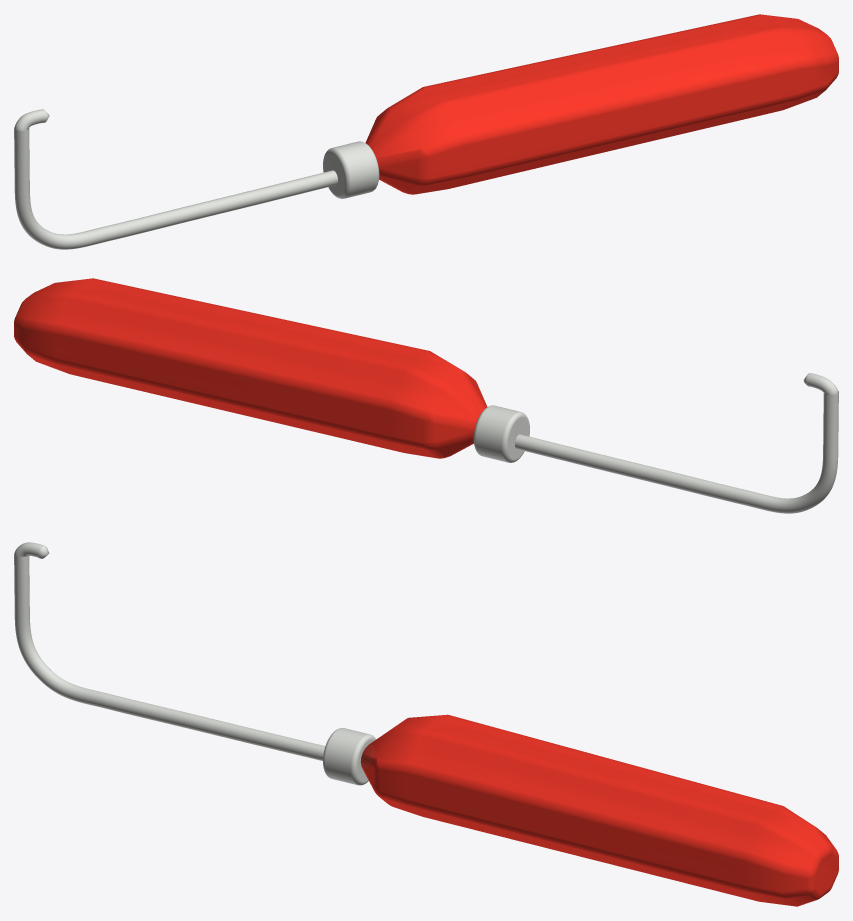
File: marking tool.fbx
3 renders of one model, top to bottom at view 1: azimuth 30°, elevation 25°; view 2: azimuth 150°, elevation 25°; view 3: azimuth 330°, elevation 25°, orthographic.
Visible parts, largest first — view 1: red handle, bent shaft, round metal collar, hook tip; view 2: red handle, bent shaft, round metal collar, hook tip; view 3: red handle, bent shaft, round metal collar.
Part boxes in pixels (bbox=[...]): red handle: bbox=[365, 14, 838, 194]; bent shaft: bbox=[14, 127, 337, 249]; round metal collar: bbox=[323, 141, 379, 198]; hook tip: bbox=[14, 109, 49, 131]; red handle: bbox=[14, 278, 487, 458]; bent shaft: bbox=[515, 391, 838, 513]; round metal collar: bbox=[473, 405, 529, 462]; hook tip: bbox=[803, 373, 838, 395]; red handle: bbox=[360, 714, 838, 906]; bent shaft: bbox=[14, 552, 325, 760]; round metal collar: bbox=[323, 728, 376, 785].
Bounding box in the file's own units: 0.5548 × 0.1121 × 0.0665.
